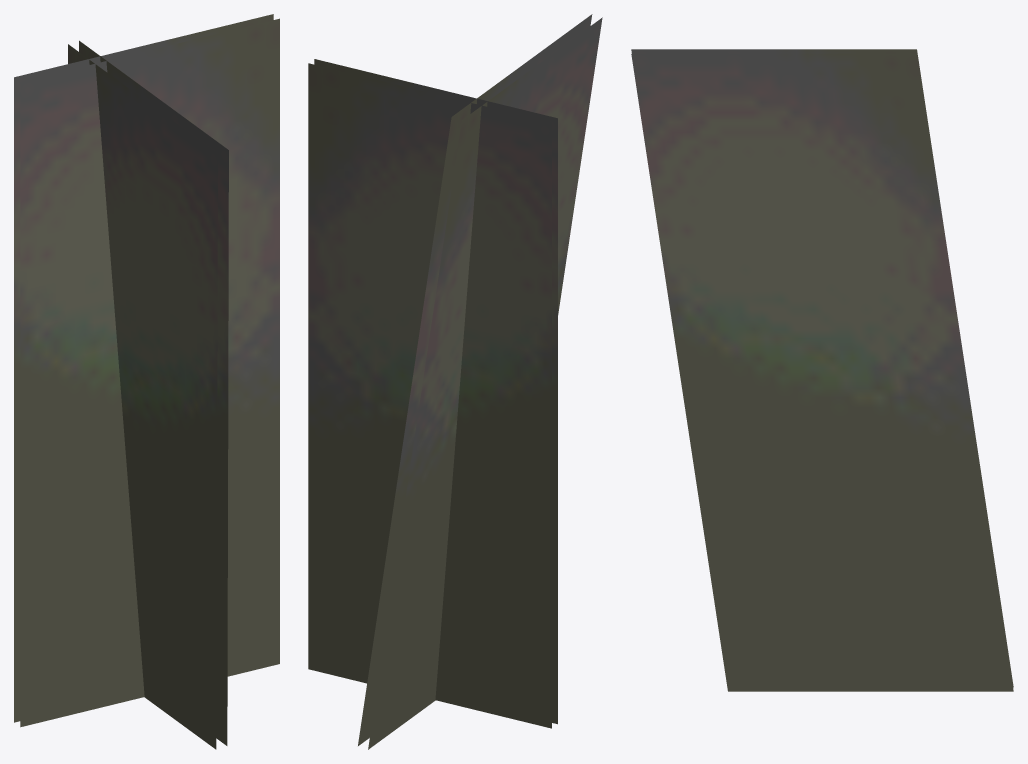
The model's file is GrassDry1.fbx.
3 views of the same model, side by side, from view 1: azimuth 30°, elevation 25°; view 2: azimuth 150°, elevation 25°; view 3: azimuth 270°, elevation 25° (orthographic). The views are drawn at different scales.
Visible parts, largest first — view 1: GrassDry1; view 2: GrassDry1; view 3: GrassDry1.
Part boxes in pixels (x1,y1,x2,y2): GrassDry1: (14,14,279,749); GrassDry1: (308,14,602,749); GrassDry1: (631,49,1013,691).
Size of the model in its own units: 0.2367 by 0.3169 by 0.5632.
